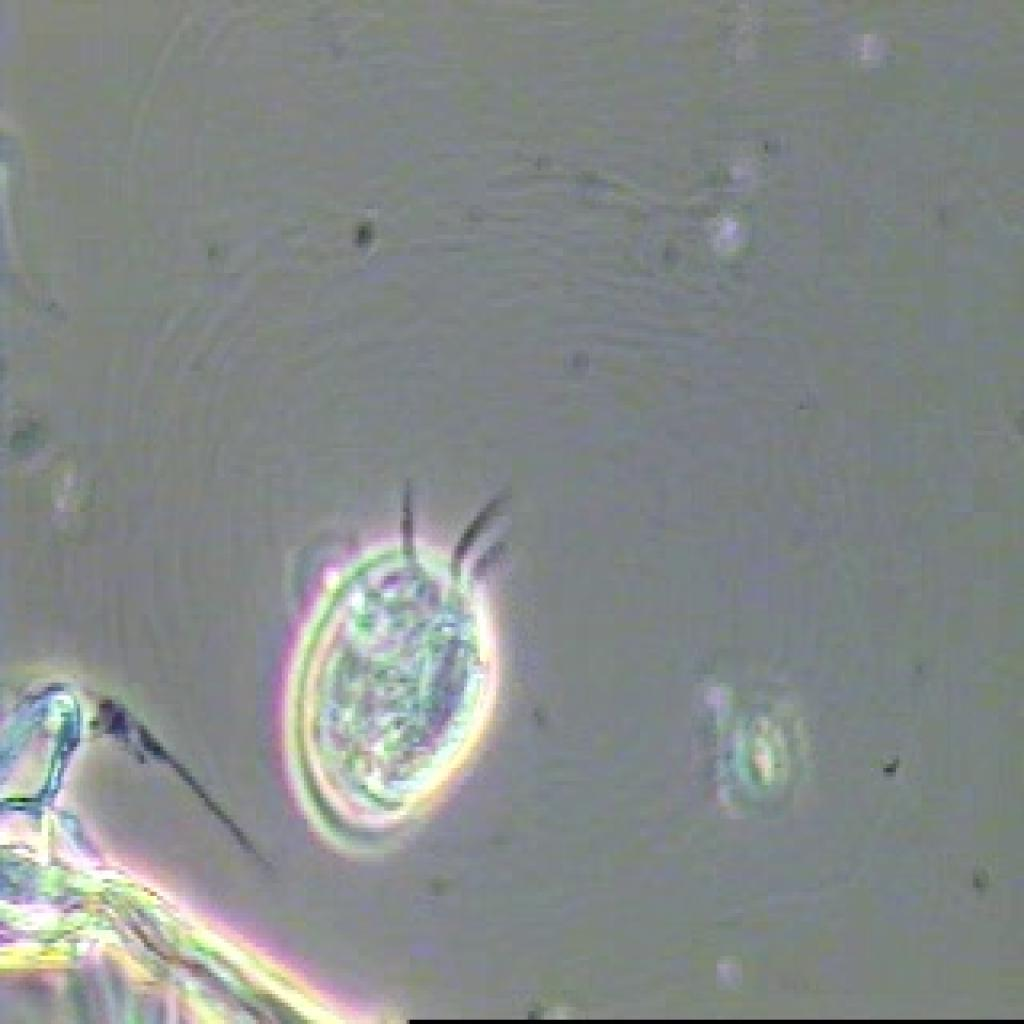Aspidisca: (253, 472, 544, 868)
